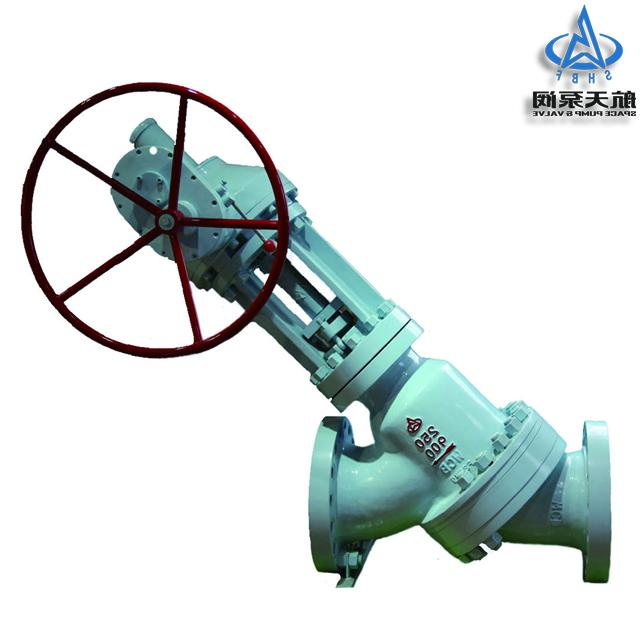Wheel Handle Valve Threaded: (12, 73, 290, 360)
